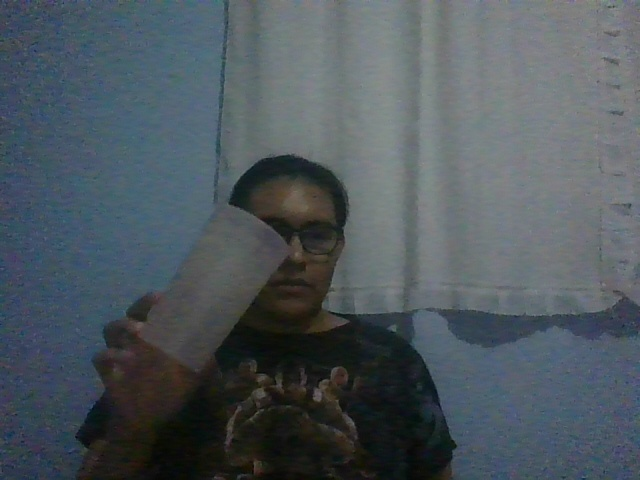vaso: (134, 203, 293, 375)
